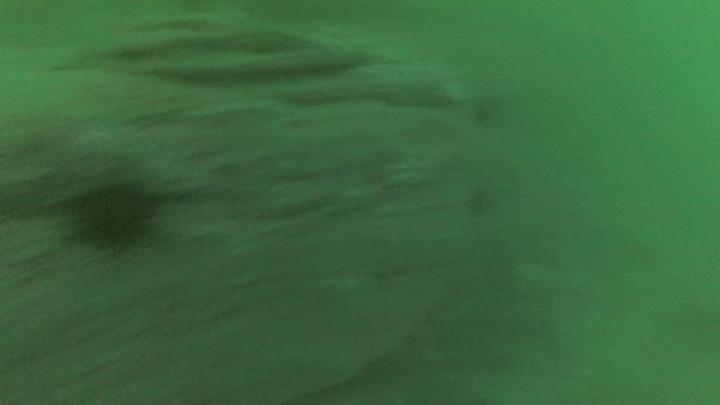echinus: (62, 179, 165, 262)
